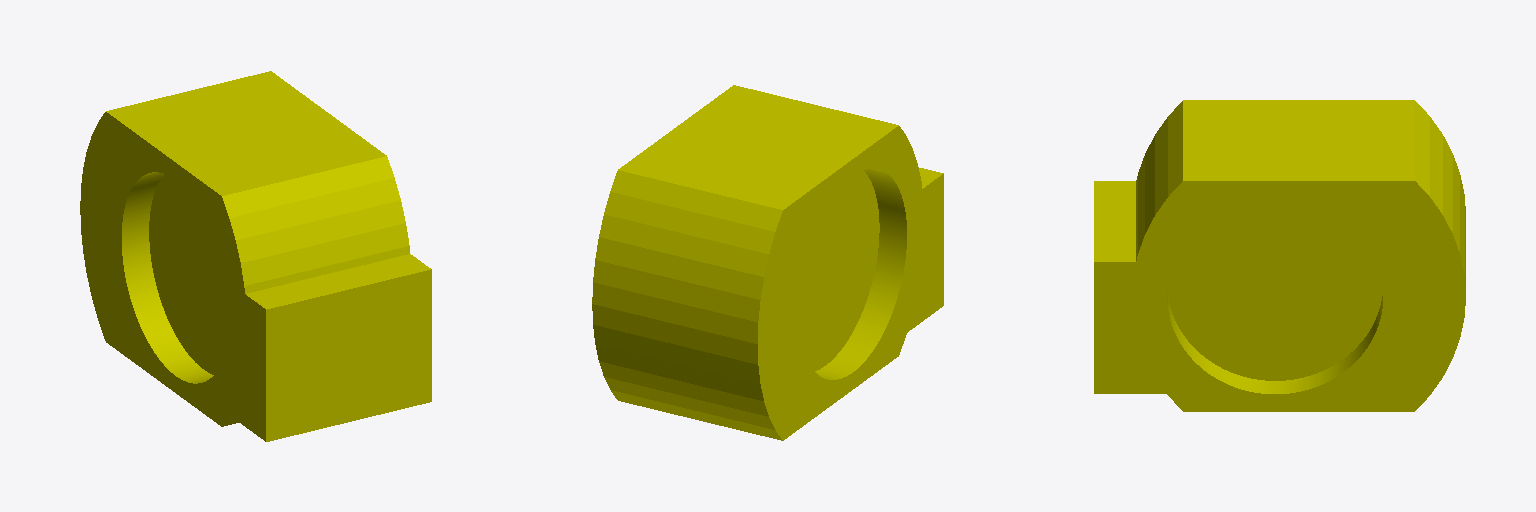
3 views of the same model, side by side, from view 1: azimuth 30°, elevation 25°; view 2: azimuth 150°, elevation 25°; view 3: azimuth 270°, elevation 25° (orthographic).
Bounding box in the file's own units: 30 × 40 × 58.5.
Materials: 1 (1 with a texture image).